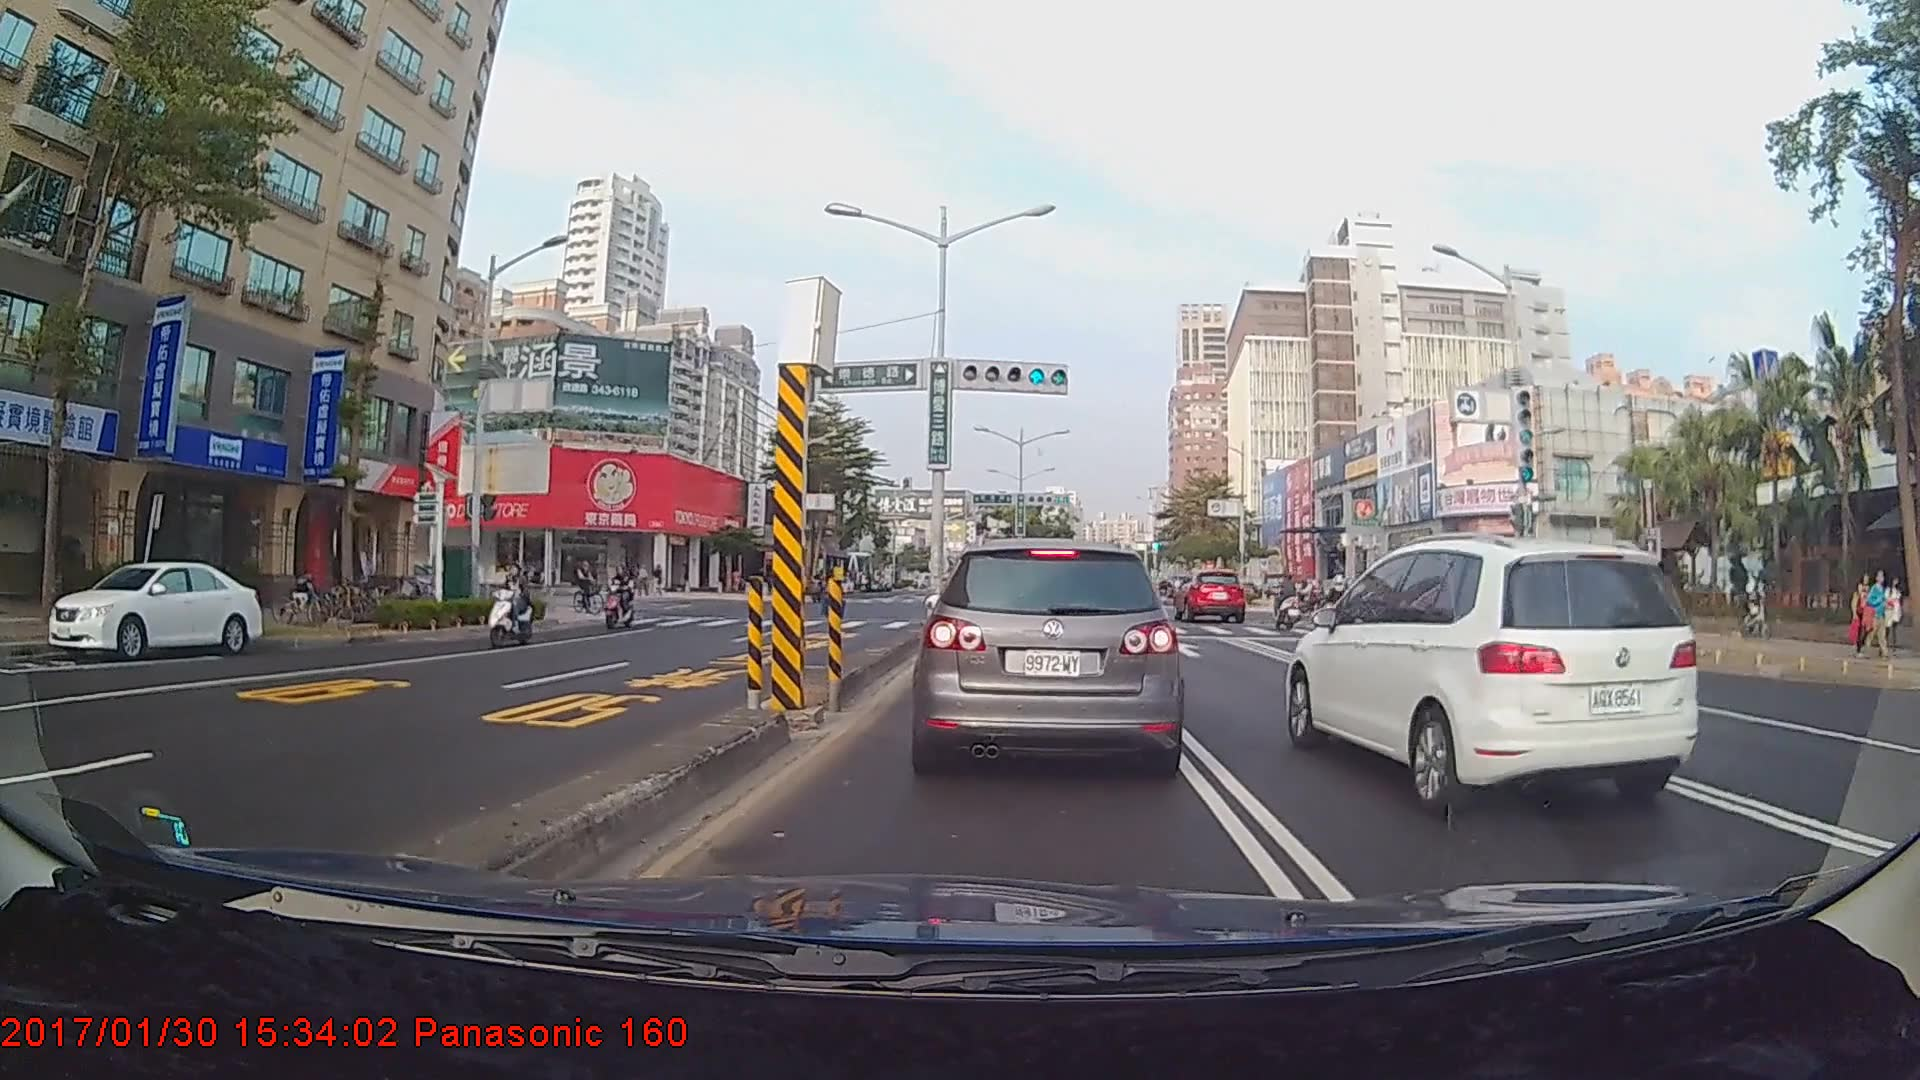pedestrian: (1864, 572, 1891, 662), (1851, 574, 1879, 658), (1881, 573, 1904, 657)
rider: (479, 559, 545, 652), (1735, 560, 1774, 642), (604, 568, 643, 633), (1269, 570, 1312, 627), (576, 555, 609, 621)
vehicle: (1285, 528, 1707, 826), (915, 537, 1182, 772), (48, 558, 260, 662), (1173, 569, 1246, 623)
